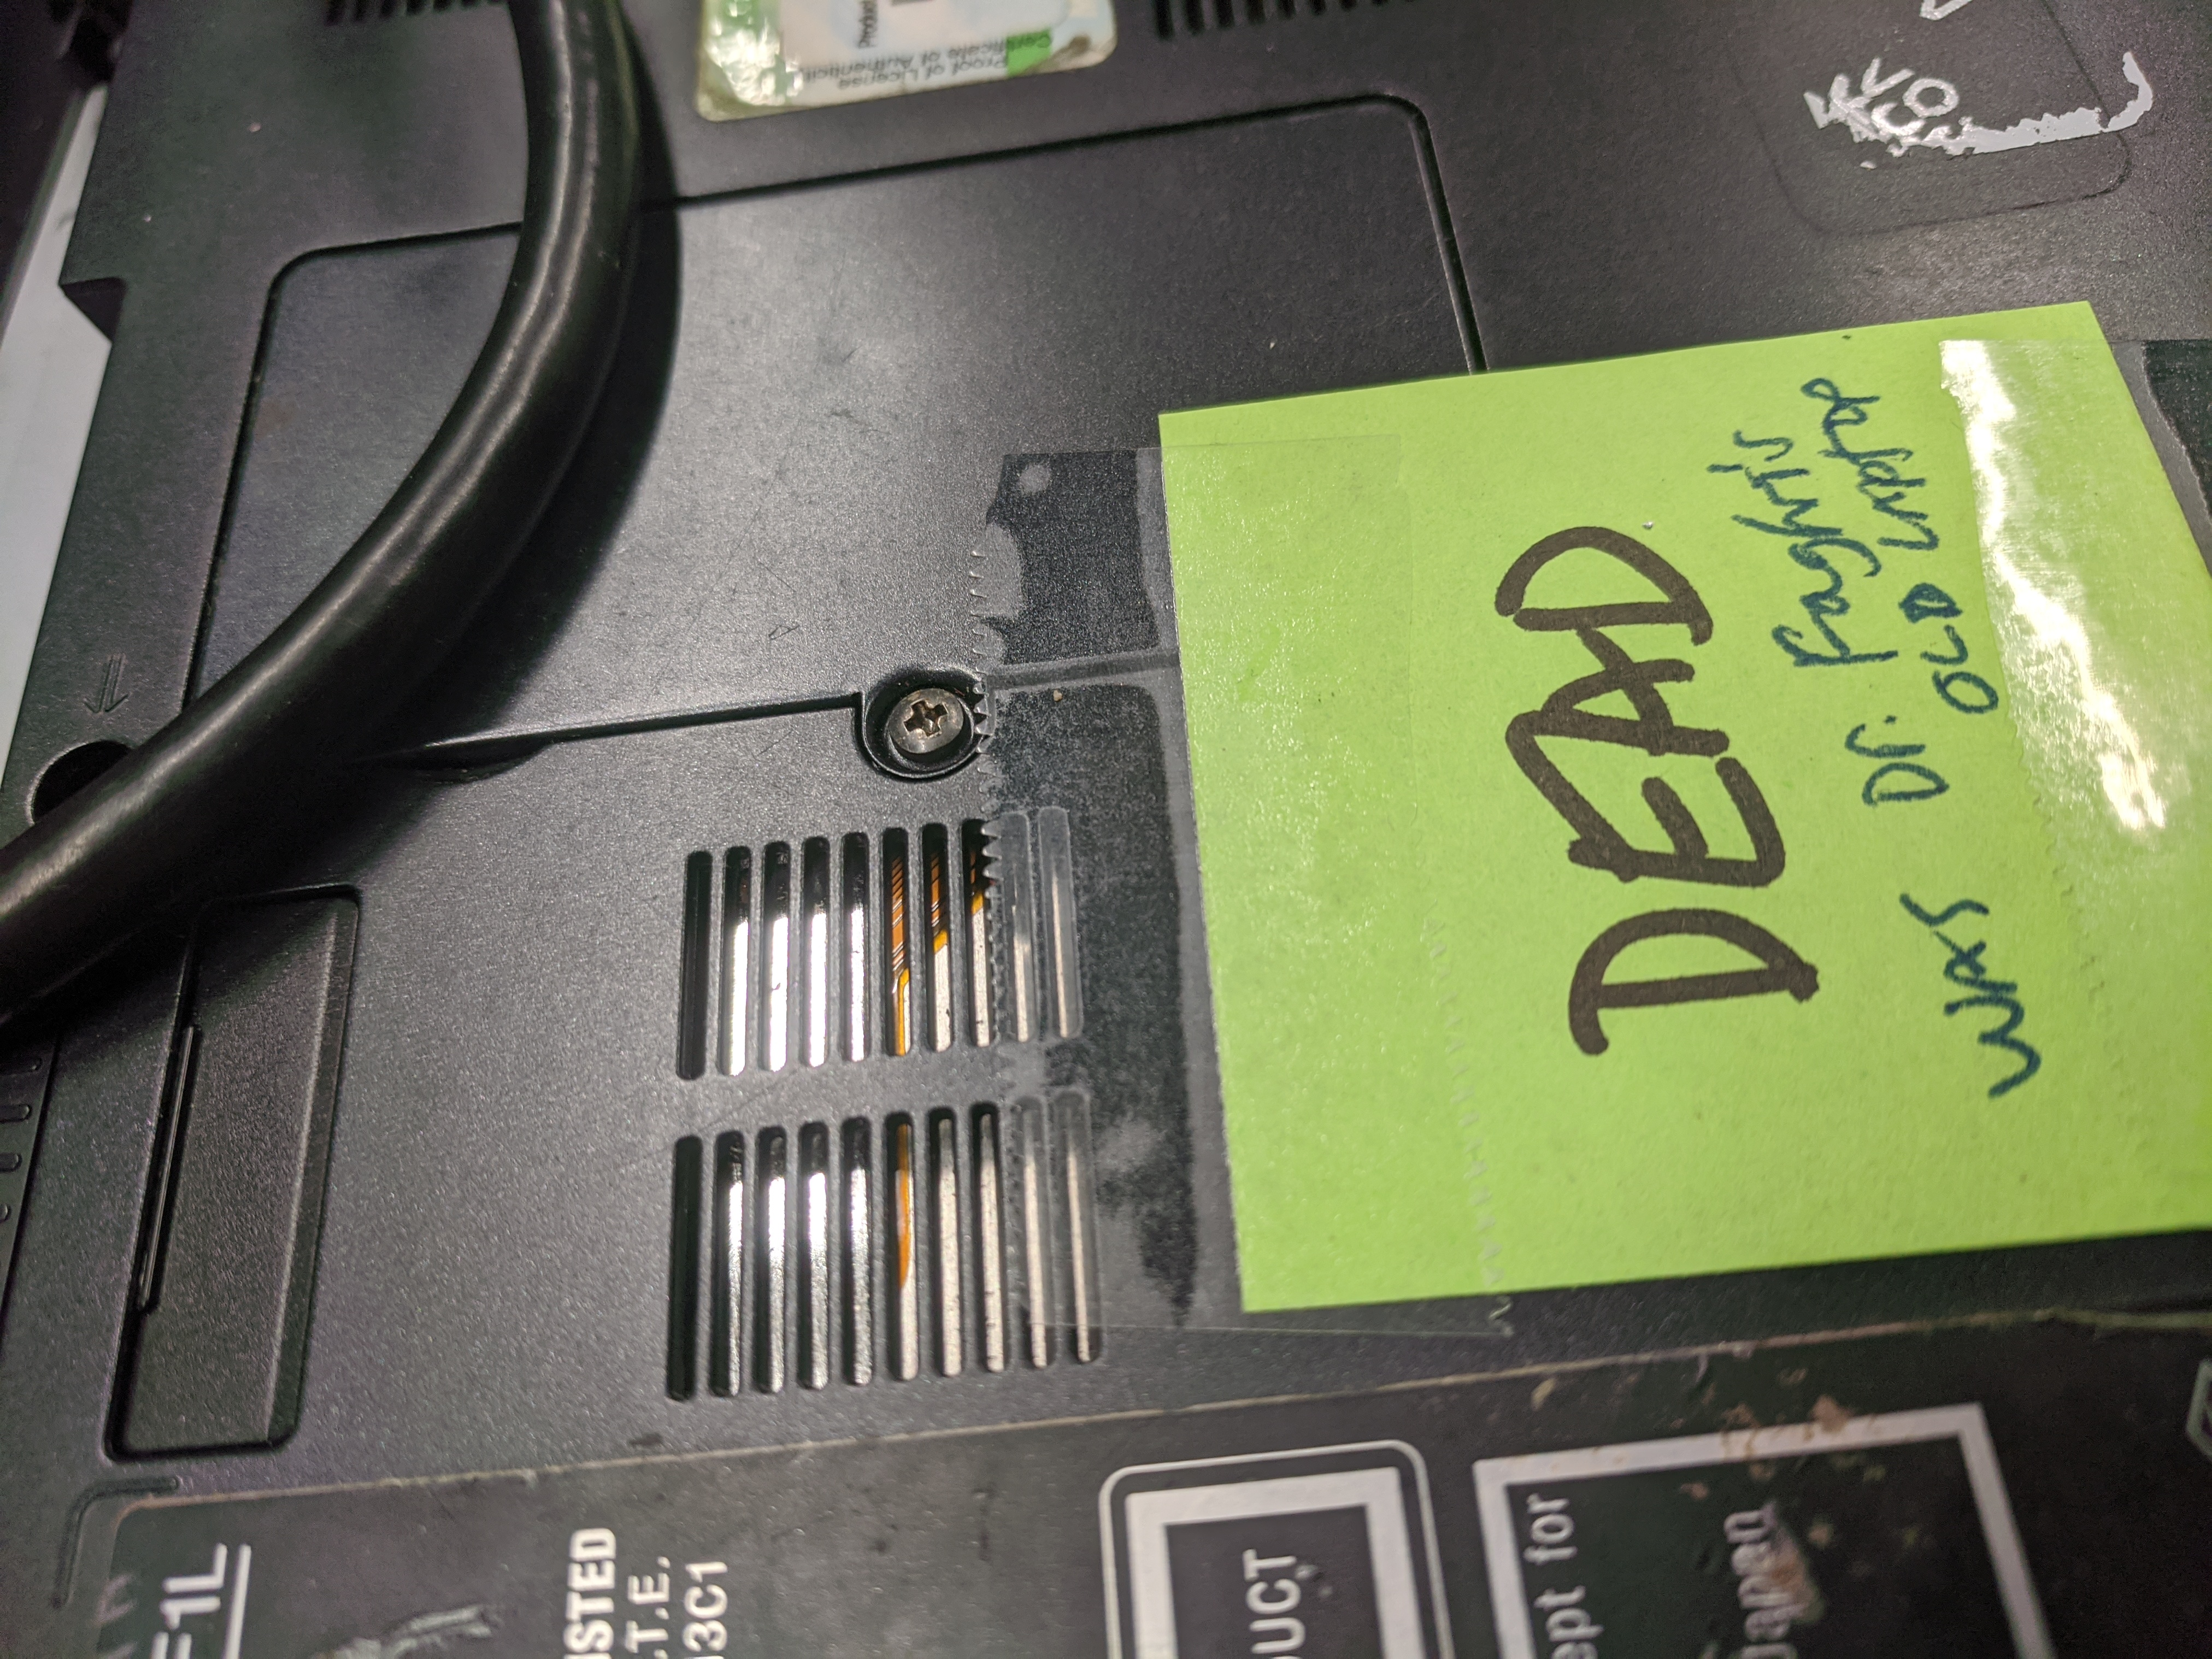cross_recessed_screw: (866, 673, 988, 765)
